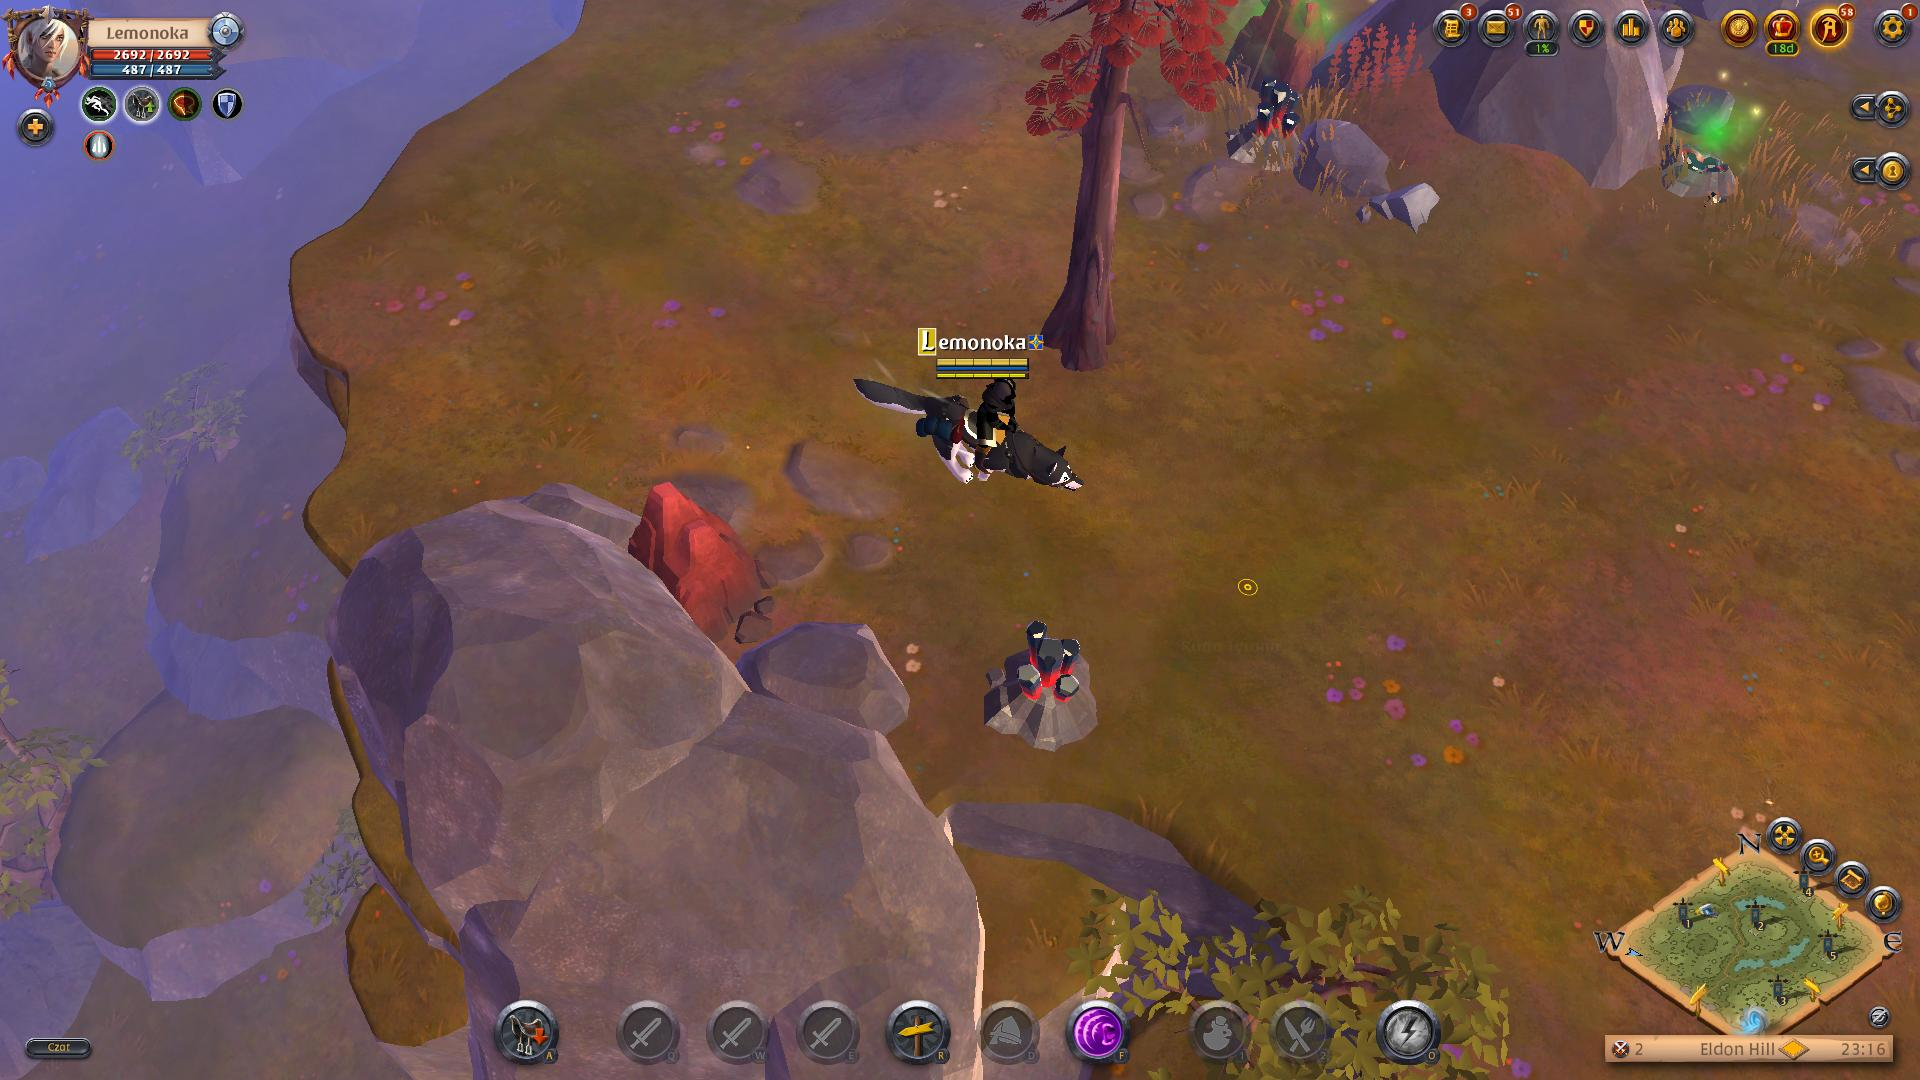ore tier 5: (978, 617, 1104, 748), (1236, 78, 1312, 173)
rock tier 5: (626, 472, 779, 651)
